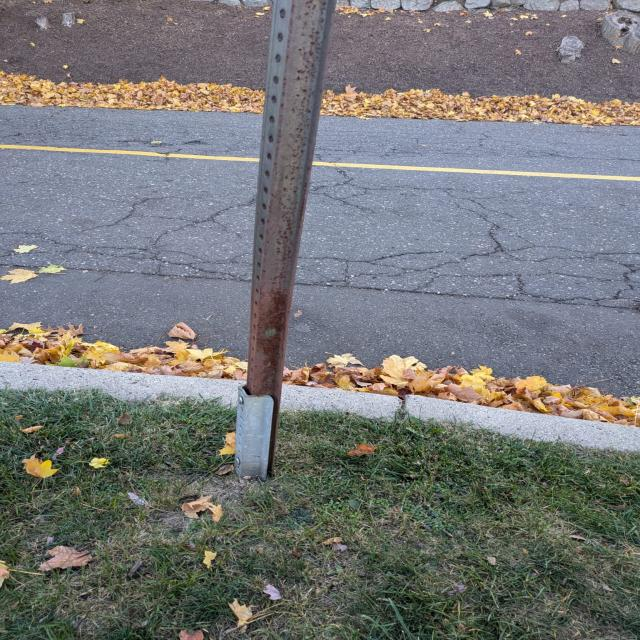Uniform Corrosion: (247, 261, 288, 401), (270, 421, 277, 471)
